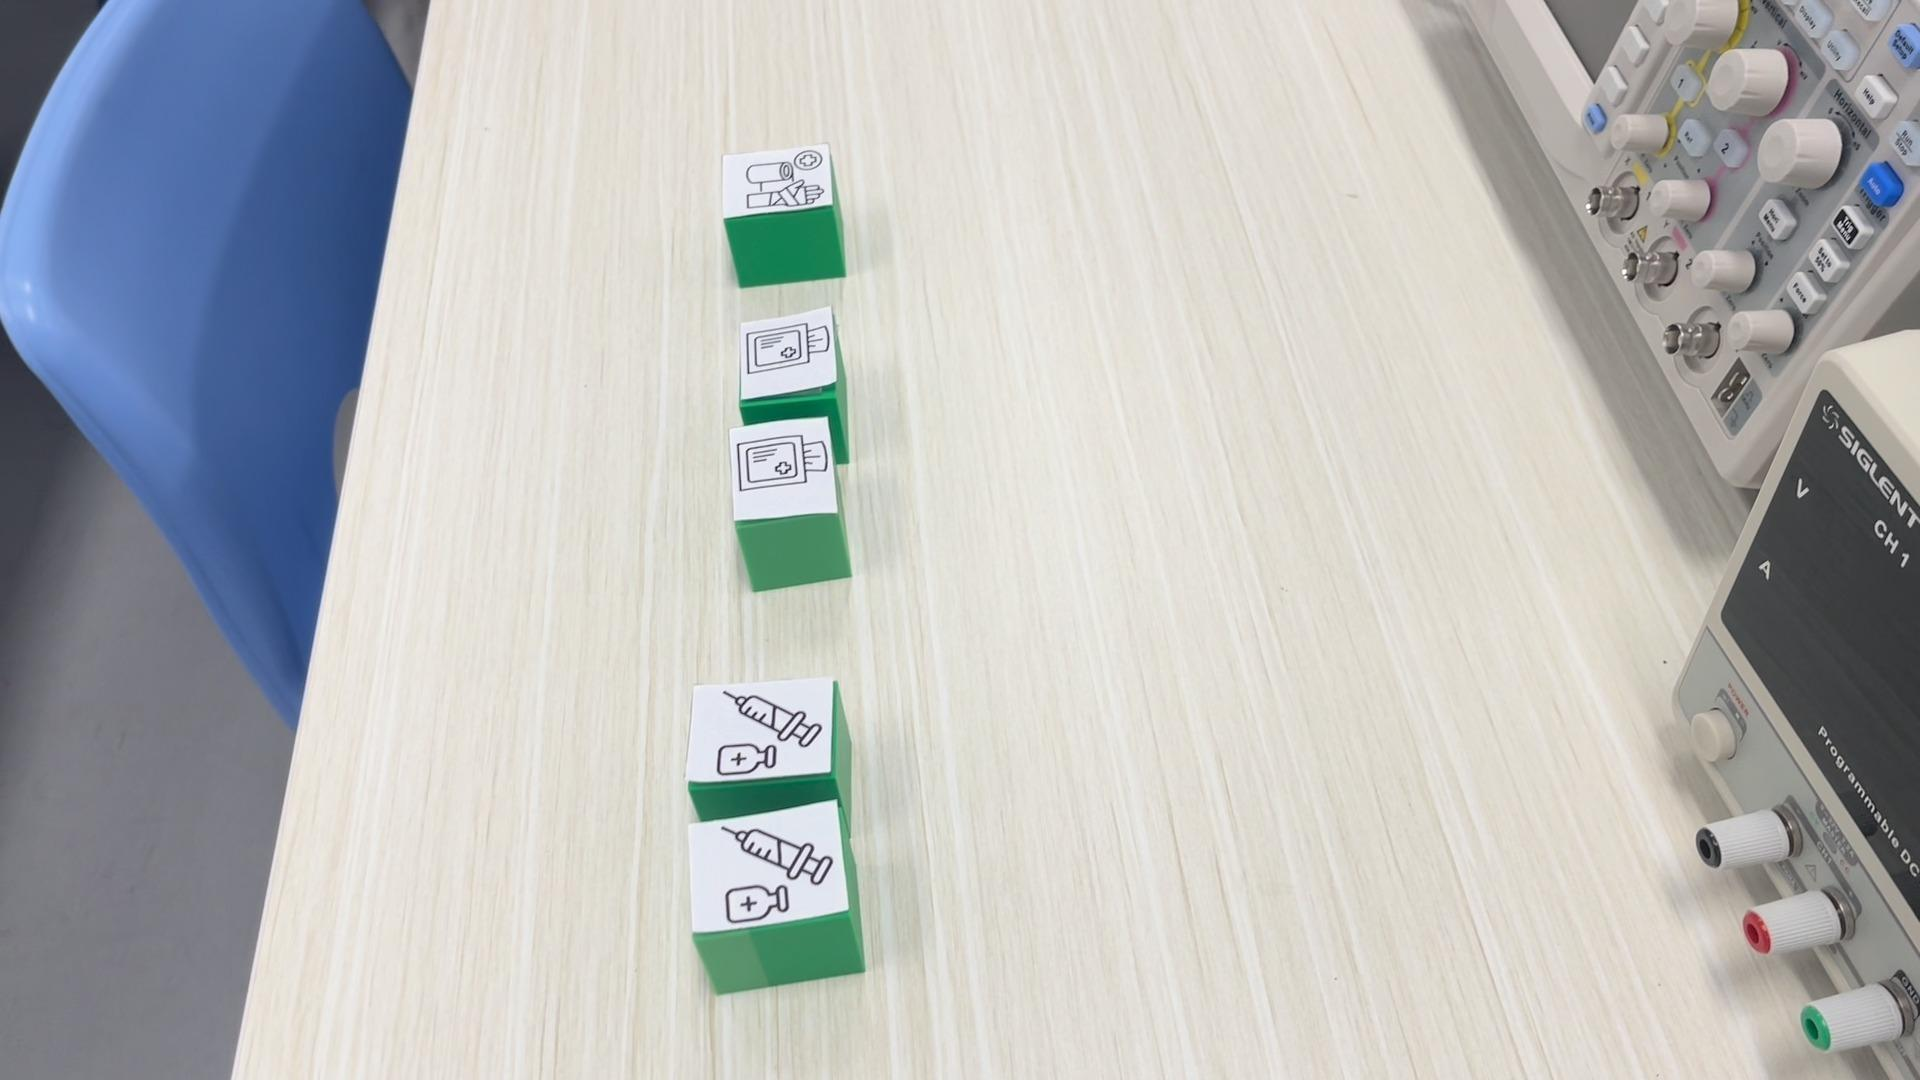Bandages: (723, 142, 847, 287)
Gauze: (735, 411, 852, 593), (740, 302, 847, 421)
antiseptic cream: (690, 796, 866, 994), (687, 675, 851, 807)
